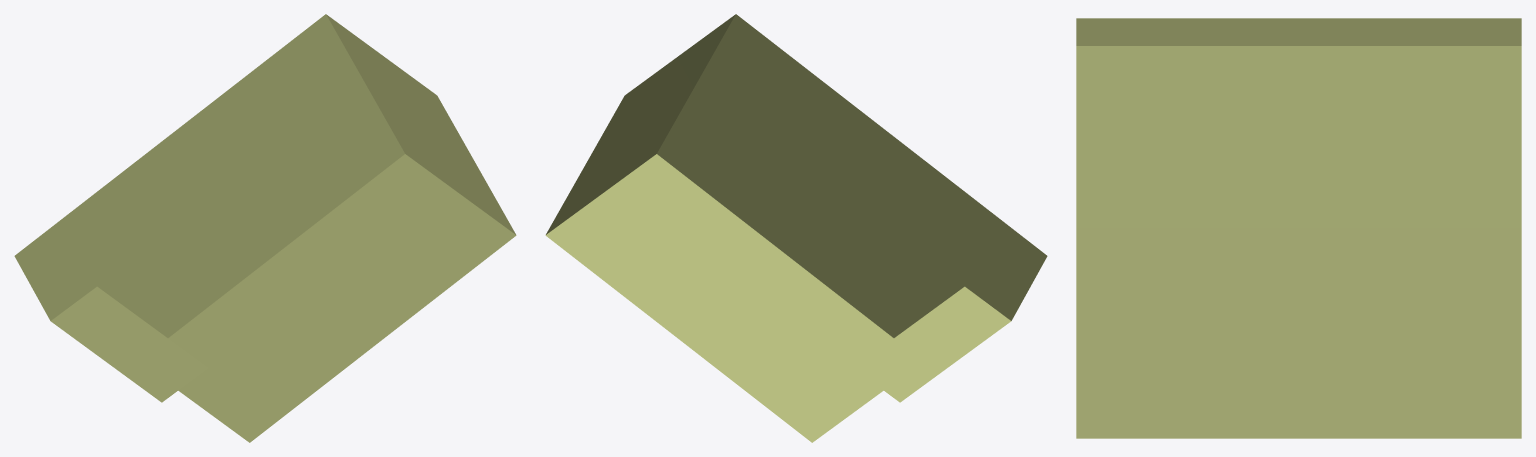
3 renders of one model, left to right at view 1: azimuth 30°, elevation 25°; view 2: azimuth 150°, elevation 25°; view 3: azimuth 270°, elevation 25°, orthographic. The views are drawn at different scales.
Parts seen in each view (by area): view 1: 0_0_1_2_0_0_0_2_2_3; view 2: 0_0_1_2_0_0_0_2_2_3; view 3: 0_0_1_2_0_0_0_2_2_3.
Boxes of the visible parts, x1=… form: 0_0_1_2_0_0_0_2_2_3: x1=14, y1=14, x2=516, y2=442; 0_0_1_2_0_0_0_2_2_3: x1=545, y1=14, x2=1047, y2=442; 0_0_1_2_0_0_0_2_2_3: x1=1076, y1=18, x2=1521, y2=438.
Size of the model in its own units: 18.23 by 13.45 by 9.
